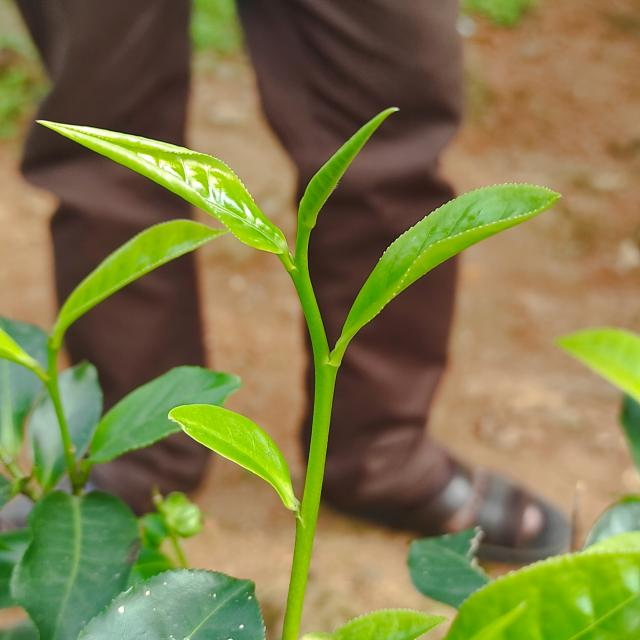unopened_leaf: (288, 97, 403, 279)
